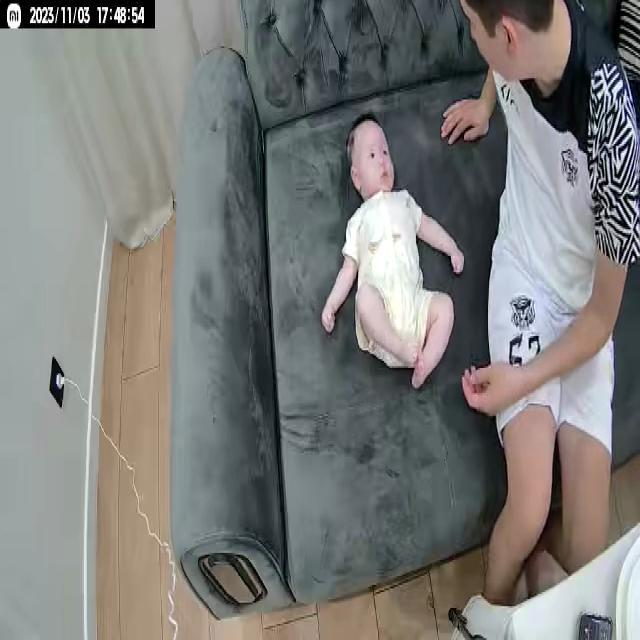baby: (320, 112, 466, 396)
